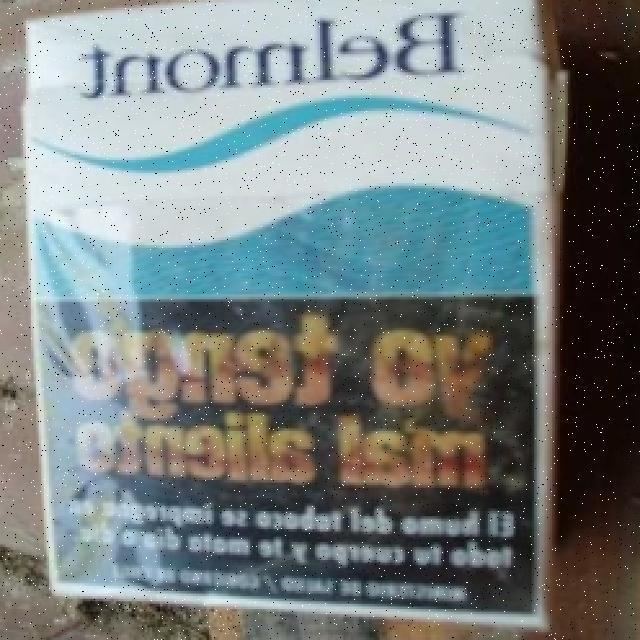box: (38, 0, 572, 602)
